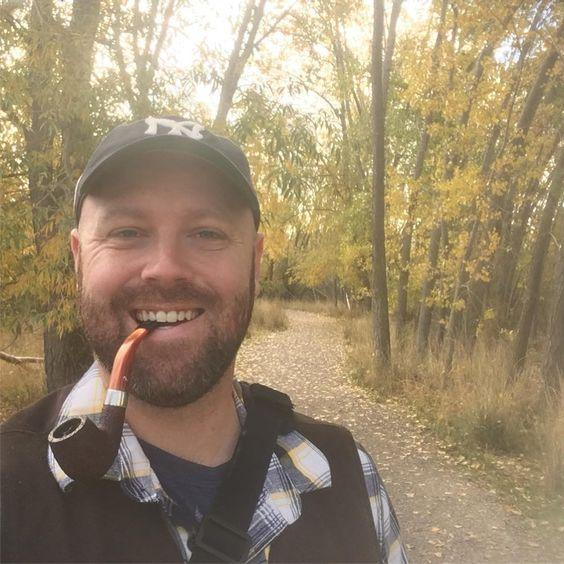trubka: (48, 320, 160, 481)
